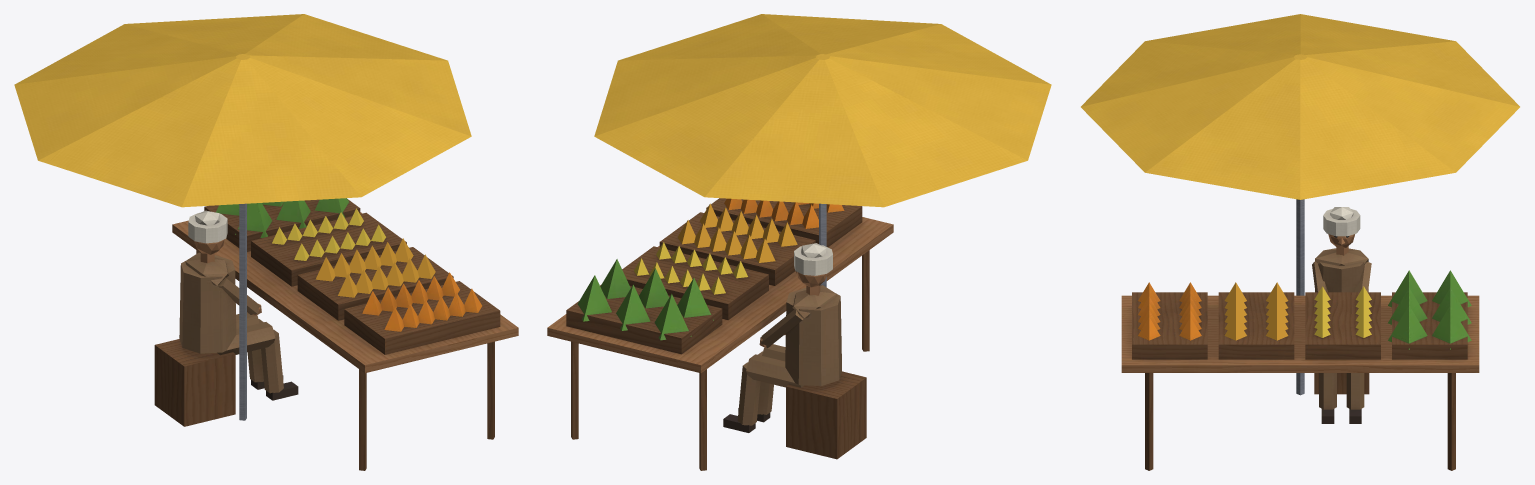
Rendered from fruktstand_tex.glb.
The picture shows the model from 3 angles, left to right: view 1: azimuth 30°, elevation 25°; view 2: azimuth 150°, elevation 25°; view 3: azimuth 270°, elevation 25°; orthographic projection. The views are drawn at different scales.
Visible parts, largest first — view 1: fruktstand; view 2: fruktstand; view 3: fruktstand.
Part boxes in pixels (box(x1,y1,x2,y2)): fruktstand: box(14, 14, 518, 470); fruktstand: box(547, 14, 1051, 470); fruktstand: box(1081, 14, 1519, 470).
Size of the model in its own units: 3.2 by 2.71 by 3.2.
Materials: 13 (10 with a texture image).
